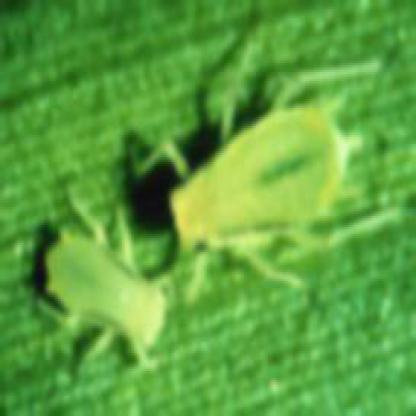schizaphis graminum: (171, 107, 361, 255), (41, 194, 171, 358)
